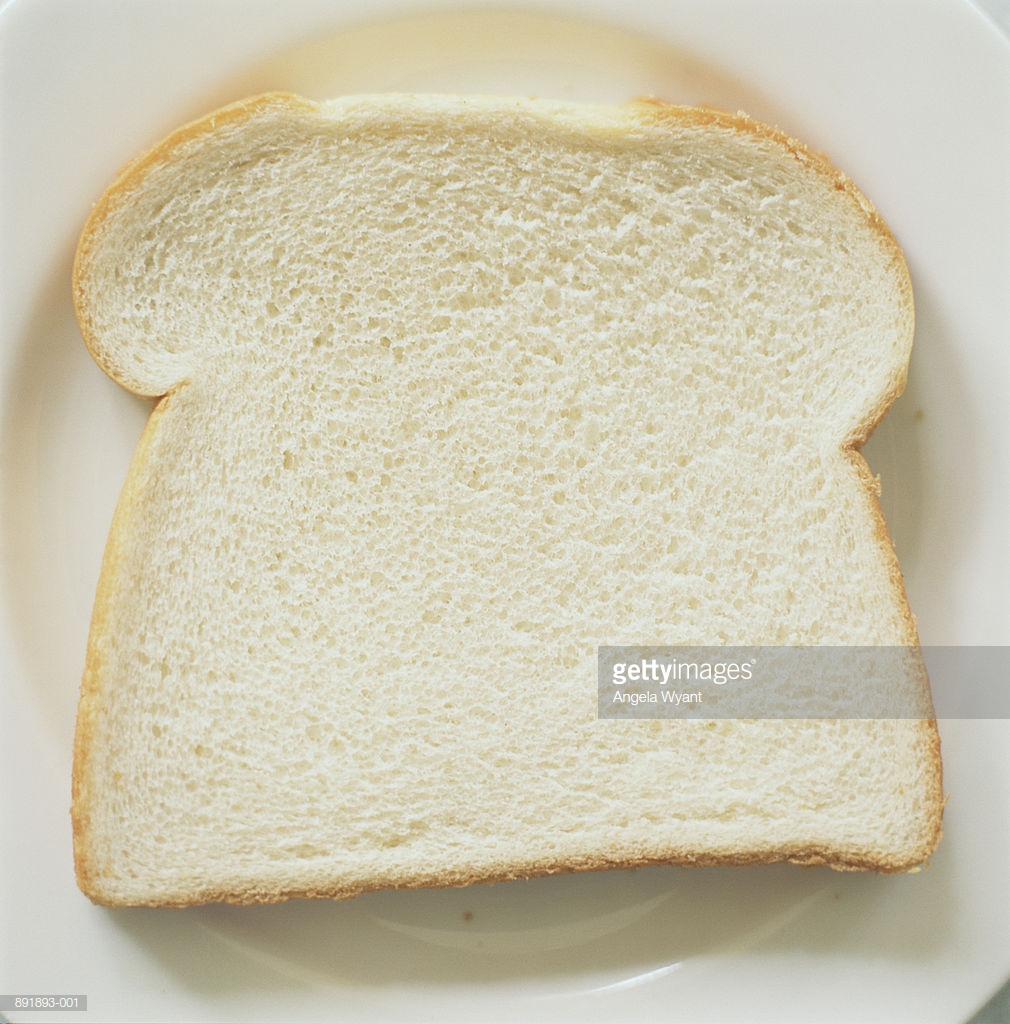slice of bread: (68, 155, 589, 904)
